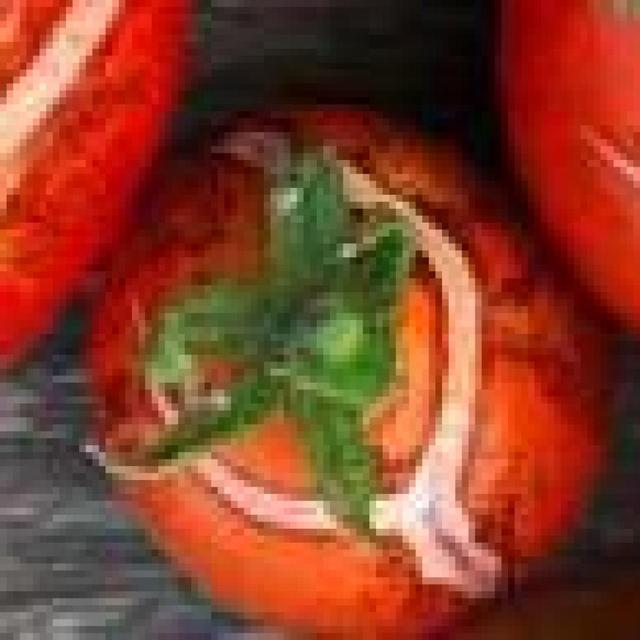Cracking Fruit: (40, 46, 402, 332)
